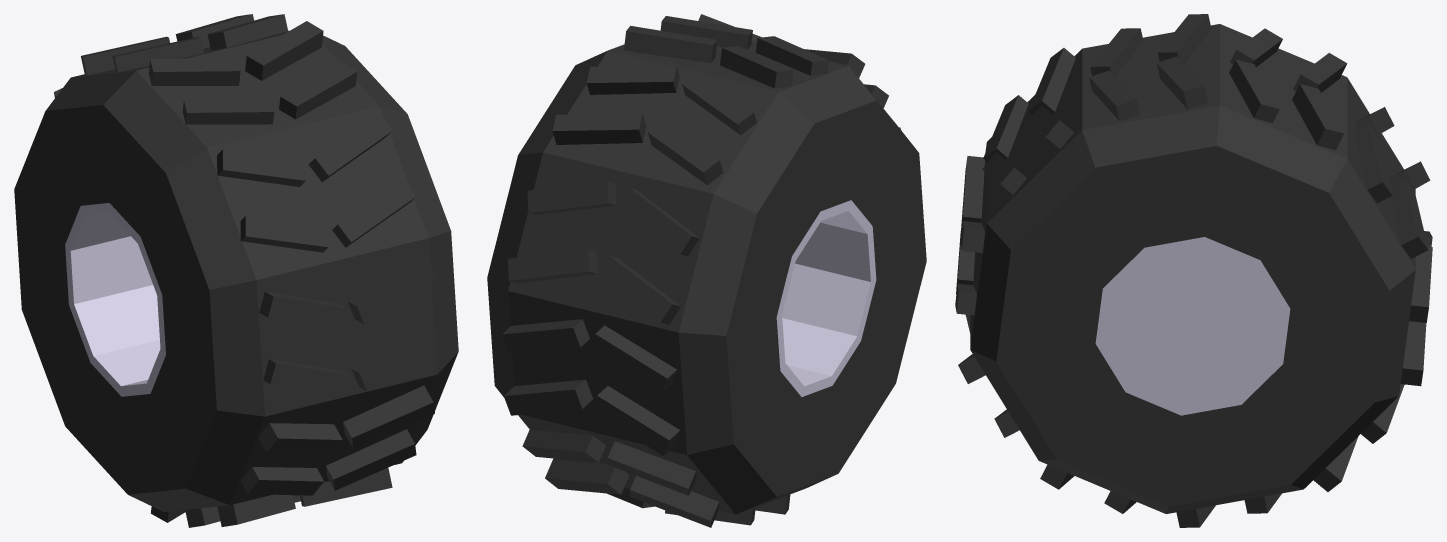
Rendered from Wheel4.glb.
The picture shows the model from 3 angles, left to right: view 1: azimuth 30°, elevation 25°; view 2: azimuth 150°, elevation 25°; view 3: azimuth 270°, elevation 25°; orthographic projection. The views are drawn at different scales.
Visible parts, largest first — view 1: Monster Truck wheel rear right_tires_0; view 2: Monster Truck wheel rear right_tires_0; view 3: Monster Truck wheel rear right_tires_0.
Part boxes in pixels (left/top/right/bottom): Monster Truck wheel rear right_tires_0: left=14, top=14, right=458, bottom=527; Monster Truck wheel rear right_tires_0: left=487, top=14, right=926, bottom=527; Monster Truck wheel rear right_tires_0: left=955, top=14, right=1432, bottom=527.
Bounding box in the file's own units: 1.04 × 1.87 × 1.83.
